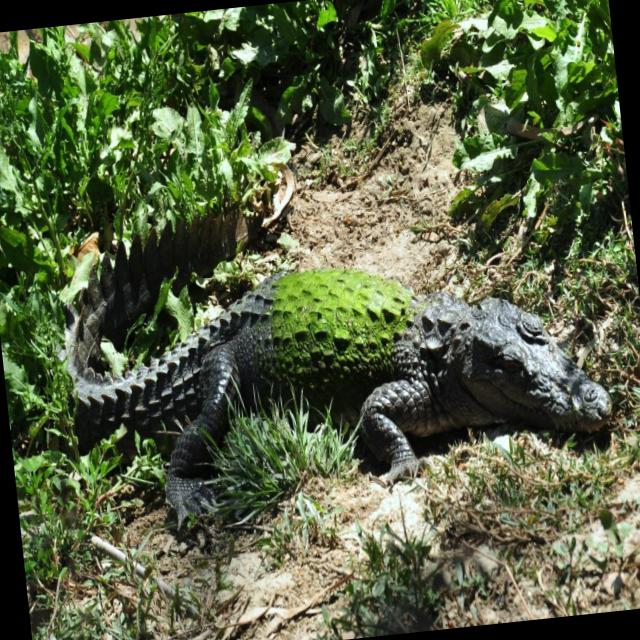crocodile: (99, 164, 628, 544)
